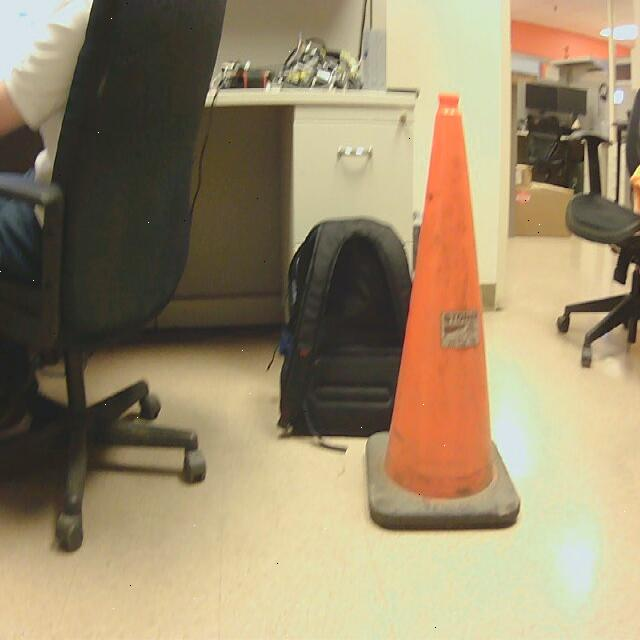traffic cone: (367, 94, 522, 536)
